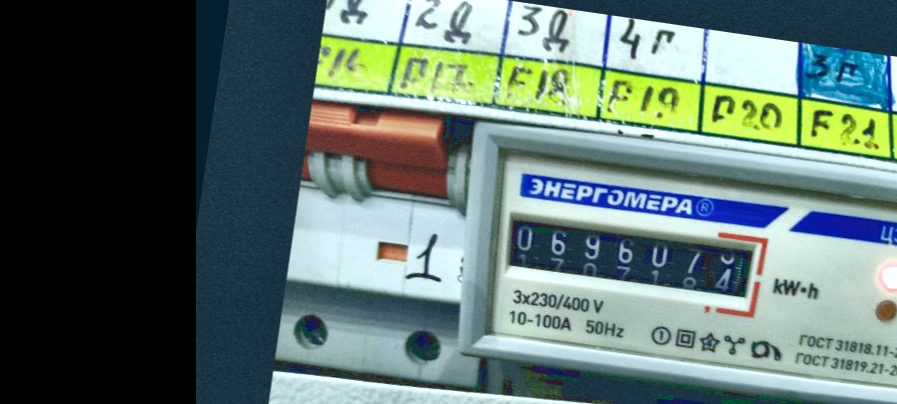0: (648, 241, 670, 273), (514, 226, 535, 256)
4: (712, 266, 733, 297)
6: (615, 237, 636, 268), (548, 230, 568, 260)
7: (681, 247, 704, 280)
9: (580, 234, 602, 265)
screen: (487, 199, 774, 322)
